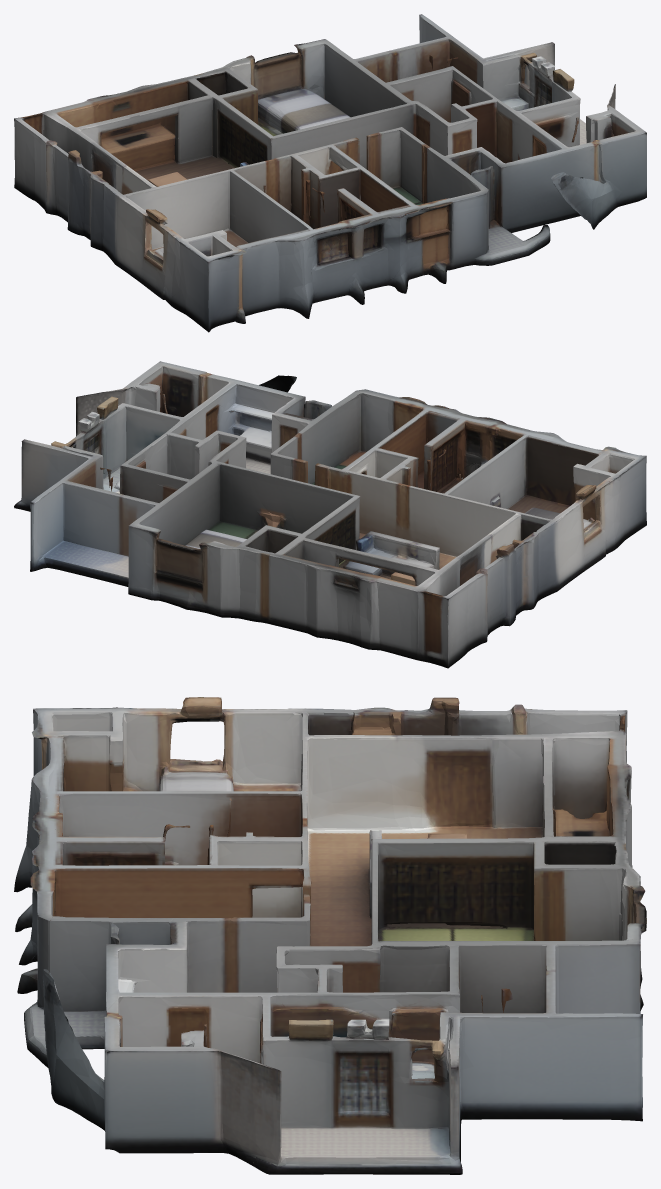
3 views of the same model, one above another, from view 1: azimuth 30°, elevation 25°; view 2: azimuth 150°, elevation 25°; view 3: azimuth 270°, elevation 25° (orthographic). The views are drawn at different scales.
Visible parts, largest first — view 1: world; view 2: world; view 3: world.
Boxes of the visible parts, bbox=[...] form: world: bbox=[14, 14, 646, 332]; world: bbox=[14, 361, 646, 668]; world: bbox=[14, 697, 646, 1174].
Bounding box in the file's own units: 1 × 0.1672 × 0.7328.
Materials: 1 (1 with a texture image).
